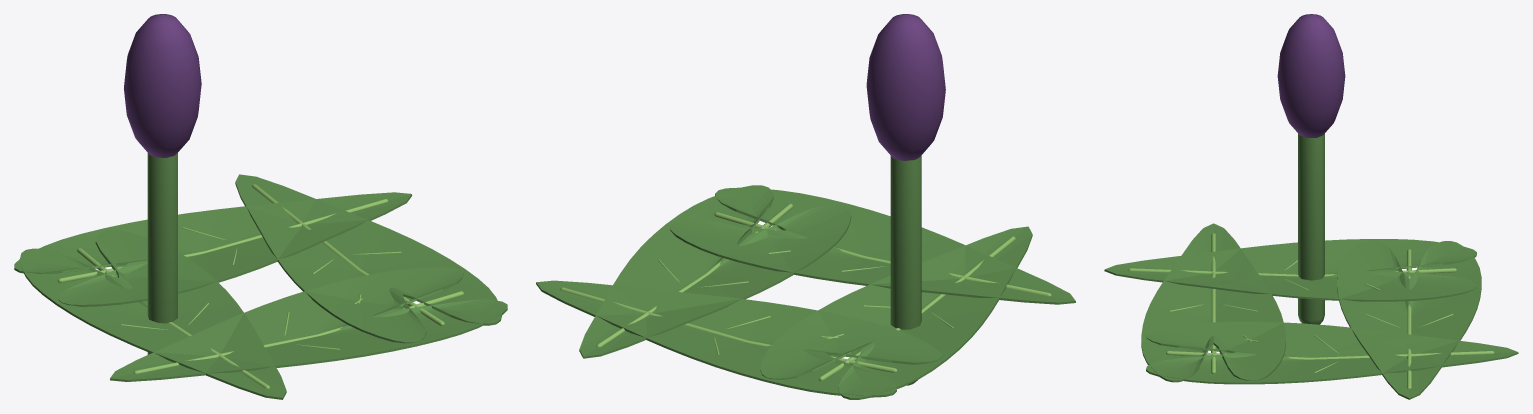
Rendered from lotus_growing.glb.
The picture shows the model from 3 angles, left to right: view 1: azimuth 30°, elevation 25°; view 2: azimuth 150°, elevation 25°; view 3: azimuth 270°, elevation 25°; orthographic projection. The views are drawn at different scales.
Parts seen in each view (by area): view 1: Broad_shaped_leaf.001, Broad_shaped_leaf, Broad_shaped_leaf.003, Broad_shaped_leaf.002, Closed_bud, Stem, Leaf_midvein.003, Leaf_midvein.001, Leaf_midvein, Leaf_midvein.002; view 2: Broad_shaped_leaf.003, Broad_shaped_leaf, Broad_shaped_leaf.001, Broad_shaped_leaf.002, Closed_bud, Stem, Leaf_midvein.003, Leaf_midvein.001, Leaf_midvein, Leaf_midvein.002; view 3: Broad_shaped_leaf, Broad_shaped_leaf.003, Broad_shaped_leaf.001, Broad_shaped_leaf.002, Closed_bud, Stem, Leaf_midvein, Leaf_midvein.002, Leaf_midvein.001, Leaf_midvein.003.
Boxes of the visible parts, x1,y1,x2,y2 form: Broad_shaped_leaf.001: (110,267,507,381); Broad_shaped_leaf: (235,174,501,343); Broad_shaped_leaf.003: (14,192,412,306); Broad_shaped_leaf.002: (20,230,286,399); Closed_bud: (124,14,201,157); Stem: (147,153,177,354); Leaf_midvein.003: (58,199,388,282); Leaf_midvein.001: (133,291,463,373); Leaf_midvein: (252,184,444,325); Leaf_midvein.002: (77,248,269,388); Broad_shaped_leaf.003: (536,280,941,397); Broad_shaped_leaf: (579,185,851,358); Broad_shaped_leaf.001: (670,187,1075,304); Broad_shaped_leaf.002: (760,226,1032,399); Closed_bud: (866,14,945,160); Stem: (890,155,921,385); Leaf_midvein.003: (560,287,897,372); Leaf_midvein.001: (714,212,1051,296); Leaf_midvein: (596,203,793,347); Leaf_midvein.002: (818,236,1015,380); Broad_shaped_leaf: (1146,321,1518,384); Broad_shaped_leaf.003: (1337,241,1481,399); Broad_shaped_leaf.001: (1141,223,1285,382); Broad_shaped_leaf.002: (1104,239,1476,301); Closed_bud: (1277,14,1345,137); Stem: (1298,133,1324,324); Leaf_midvein: (1166,351,1494,359); Leaf_midvein.002: (1128,268,1456,276); Leaf_midvein.001: (1211,233,1216,373); Leaf_midvein.003: (1406,249,1411,388).
Size of the model in its own units: 0.3301 by 0.2748 by 0.3301.
